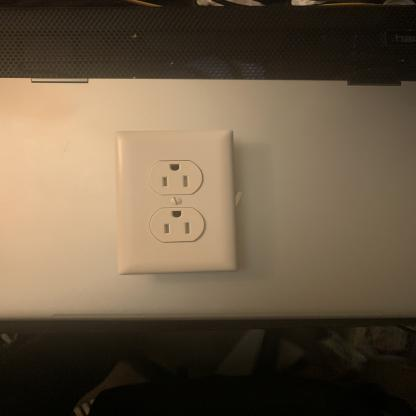OUTLET: (114, 129, 240, 277)
